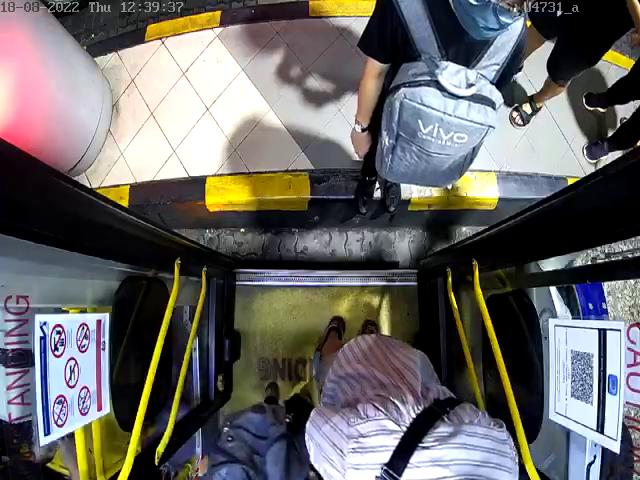open: (0, 0, 640, 163)
